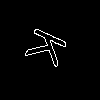K: (25, 25, 76, 74)
